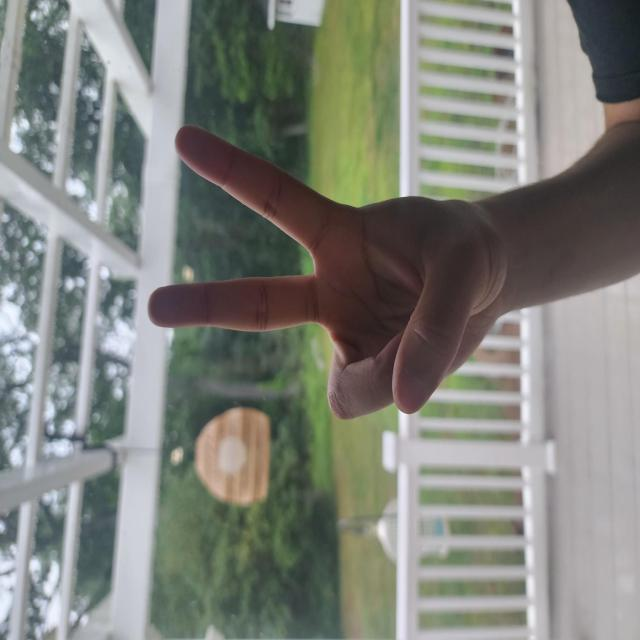V: (162, 194, 391, 640)
